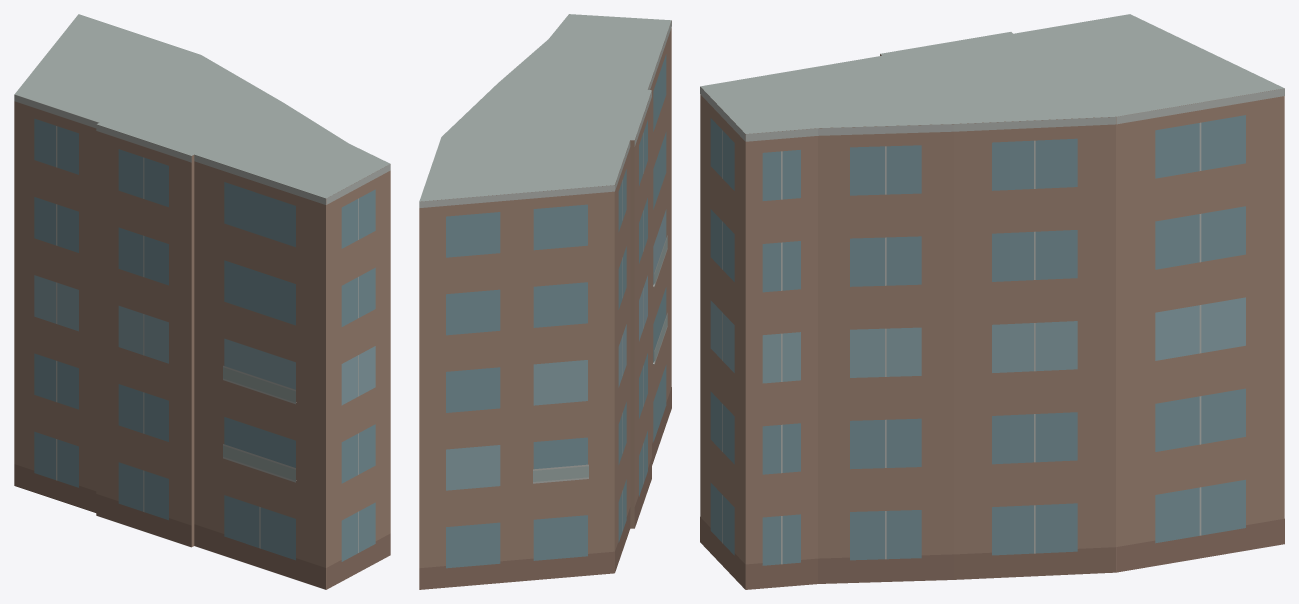
The model's file is survey-upis-33012526.glb.
The picture shows the model from 3 angles, left to right: view 1: azimuth 30°, elevation 25°; view 2: azimuth 150°, elevation 25°; view 3: azimuth 270°, elevation 25°; orthographic projection. The views are drawn at different scales.
Parts seen in each view (by area): view 1: survey-upis-33012526.tmp; view 2: survey-upis-33012526.tmp; view 3: survey-upis-33012526.tmp.
Part boxes in pixels (x1=…): survey-upis-33012526.tmp: x1=14, y1=14, x2=390, y2=589; survey-upis-33012526.tmp: x1=419, y1=14, x2=671, y2=589; survey-upis-33012526.tmp: x1=700, y1=14, x2=1284, y2=589.
Bounding box in the file's own units: 8.17 × 14.45 × 16.81.
